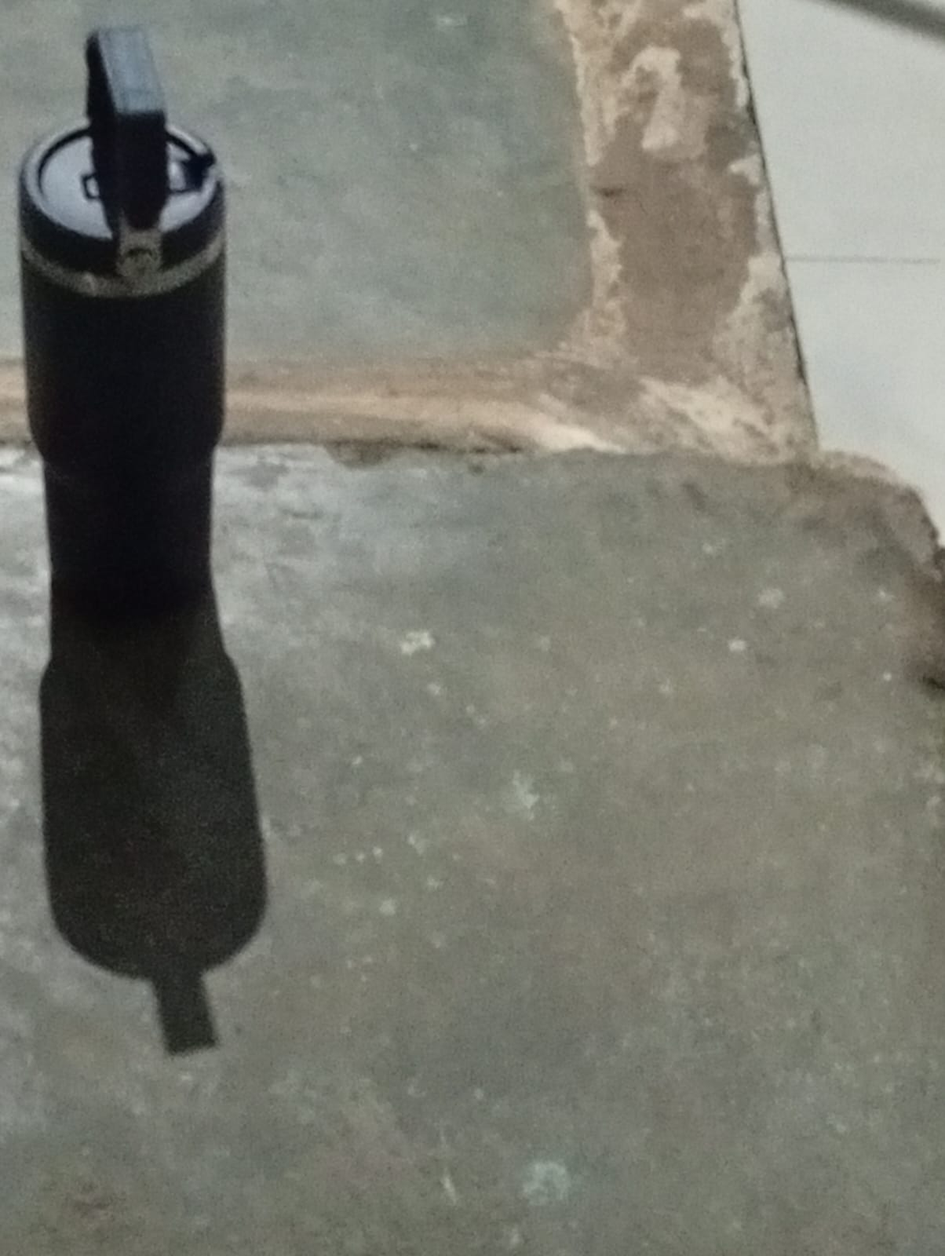Tupperware: (8, 3, 358, 1063)
